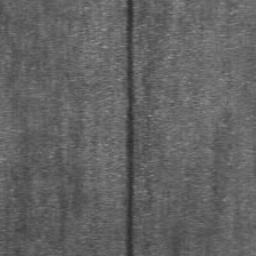Scratches: (125, 0, 135, 256)
